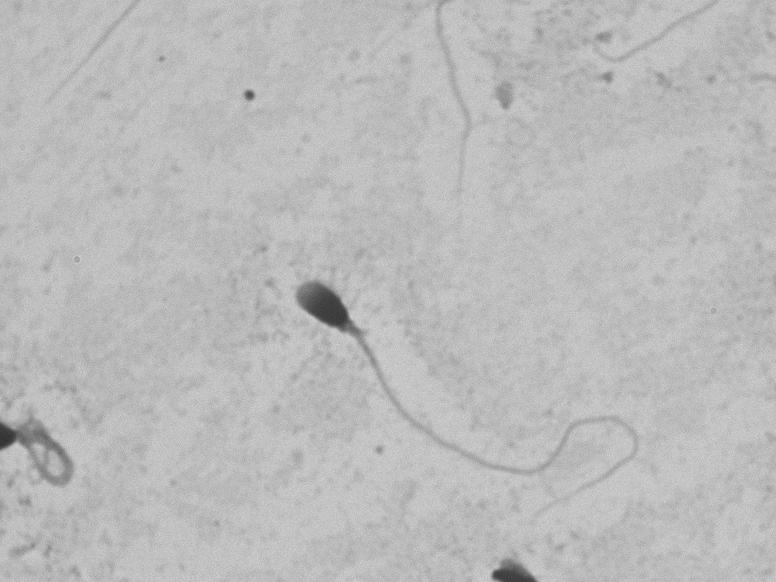Normal: (268, 252, 672, 543)
